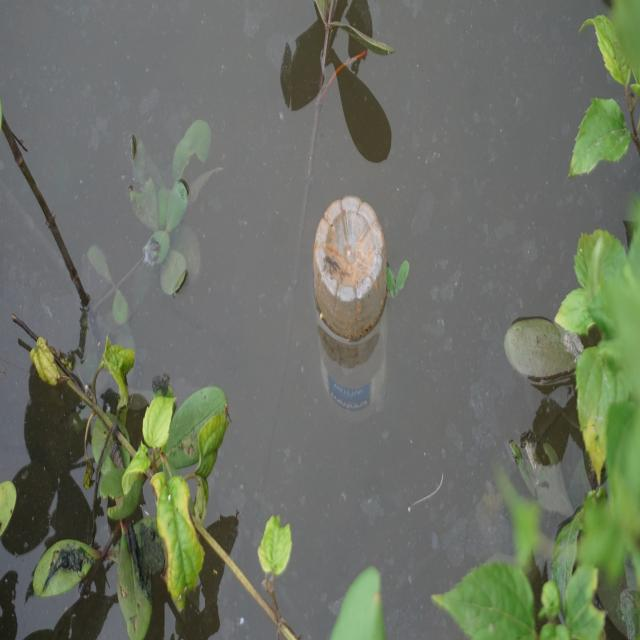Botol Plastik: (312, 192, 392, 340)
